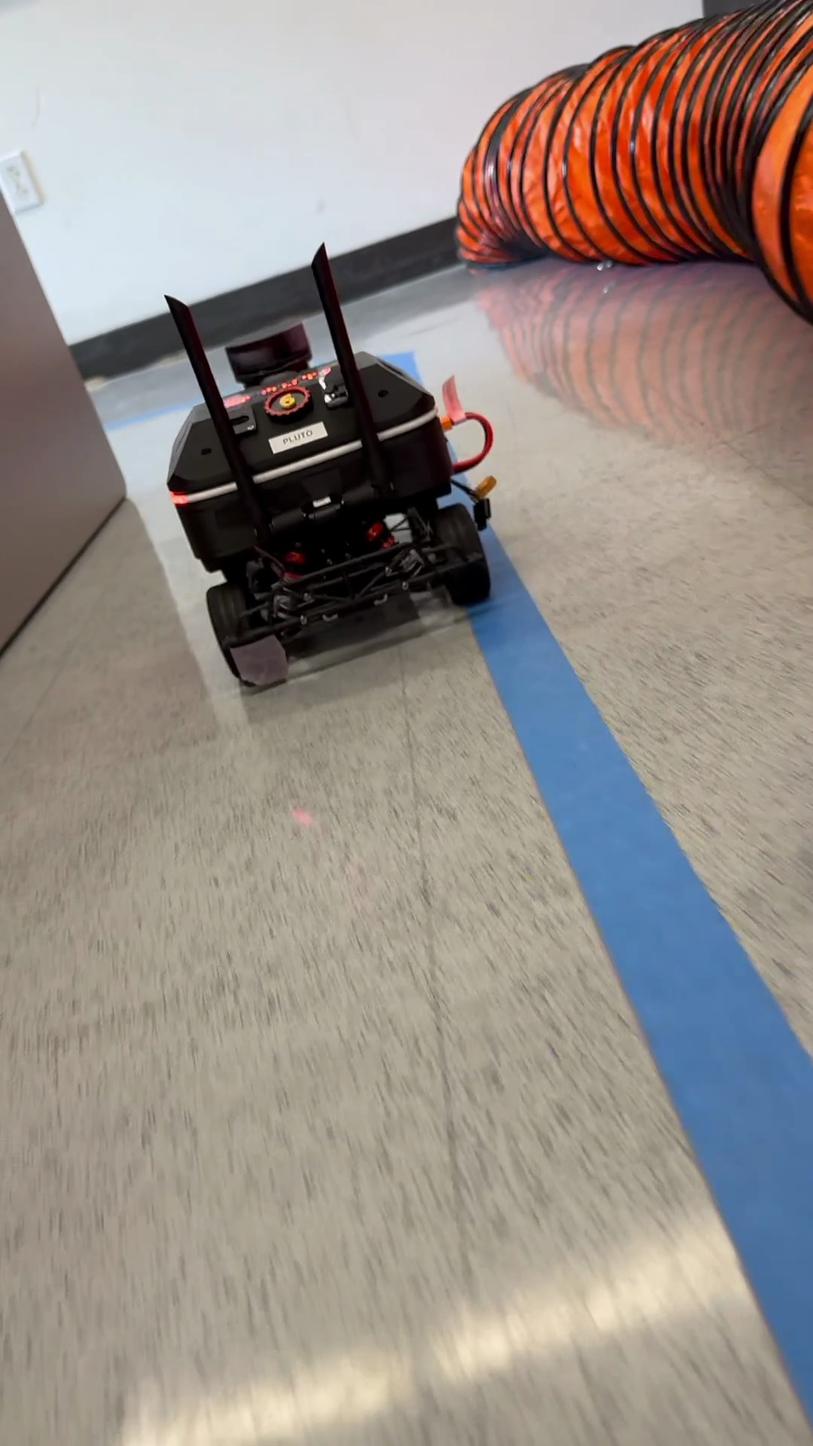racecar: (164, 242, 498, 695)
